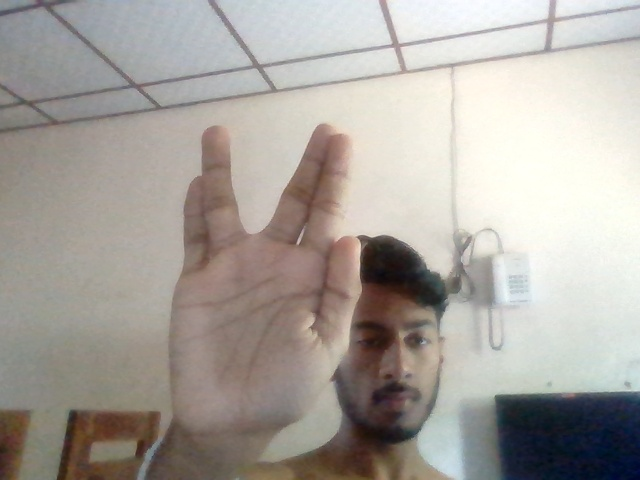LiveLong: (169, 123, 363, 435)
